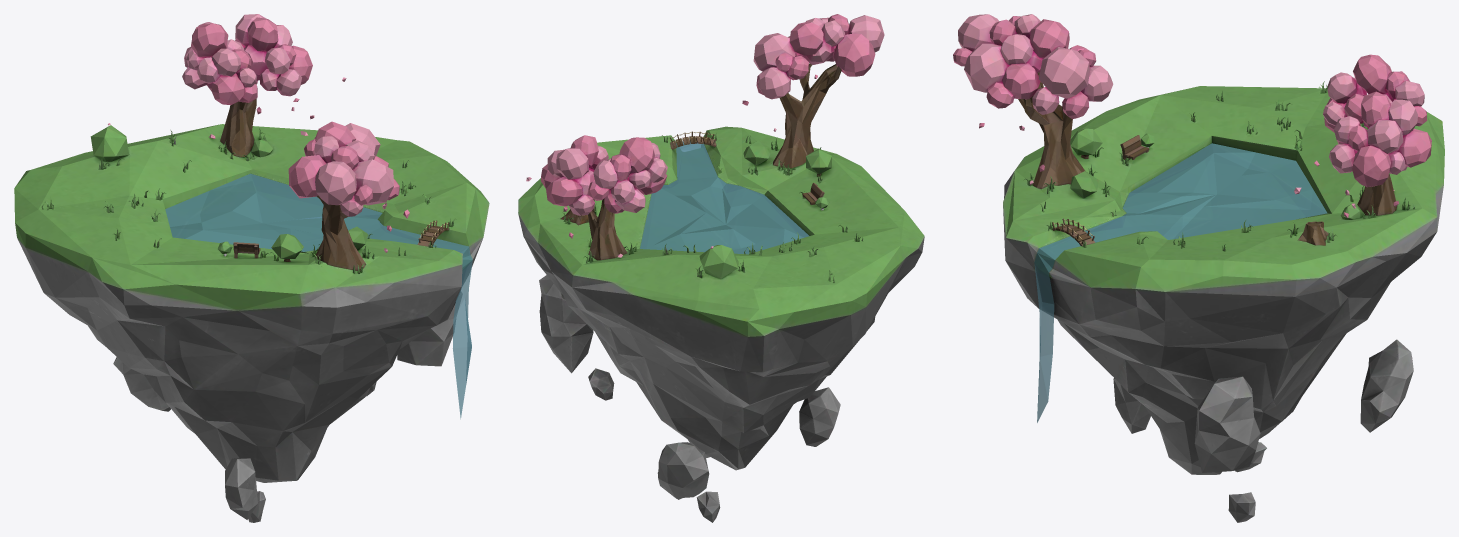
File: floating_island-transformed.glb
The picture shows the model from 3 angles, left to right: view 1: azimuth 30°, elevation 25°; view 2: azimuth 150°, elevation 25°; view 3: azimuth 270°, elevation 25°; orthographic projection. The views are drawn at different scales.
Parts seen in each view (by area): view 1: defaultMaterial (×2); view 2: defaultMaterial (×2); view 3: defaultMaterial (×2).
Part boxes in pixels (box(x1,y1,x2,y2)): defaultMaterial (×2): box(14, 14, 489, 522); defaultMaterial (×2): box(518, 14, 924, 522); defaultMaterial (×2): box(953, 14, 1444, 522).
Size of the model in its own units: 845 by 971 by 873.
2 materials, 2 textured.
